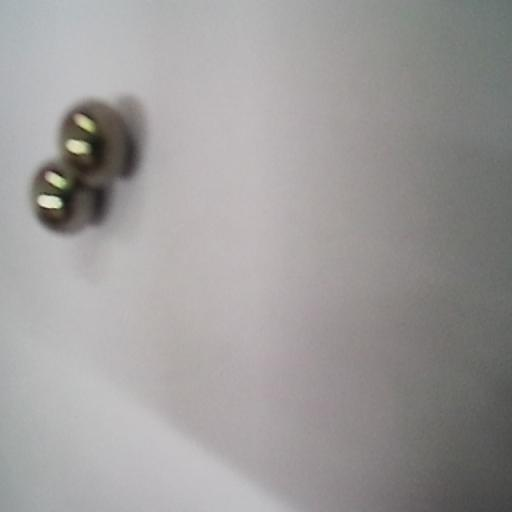steel-ball: (54, 91, 124, 183), (26, 161, 94, 246)
